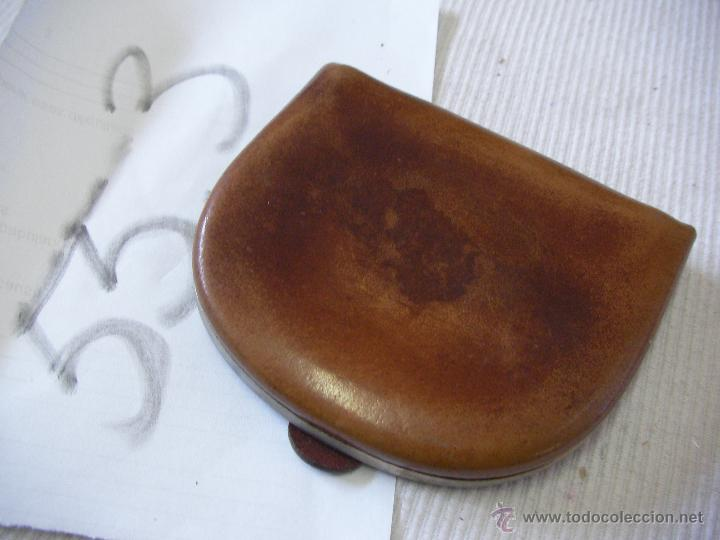monedero: (189, 62, 700, 488)
